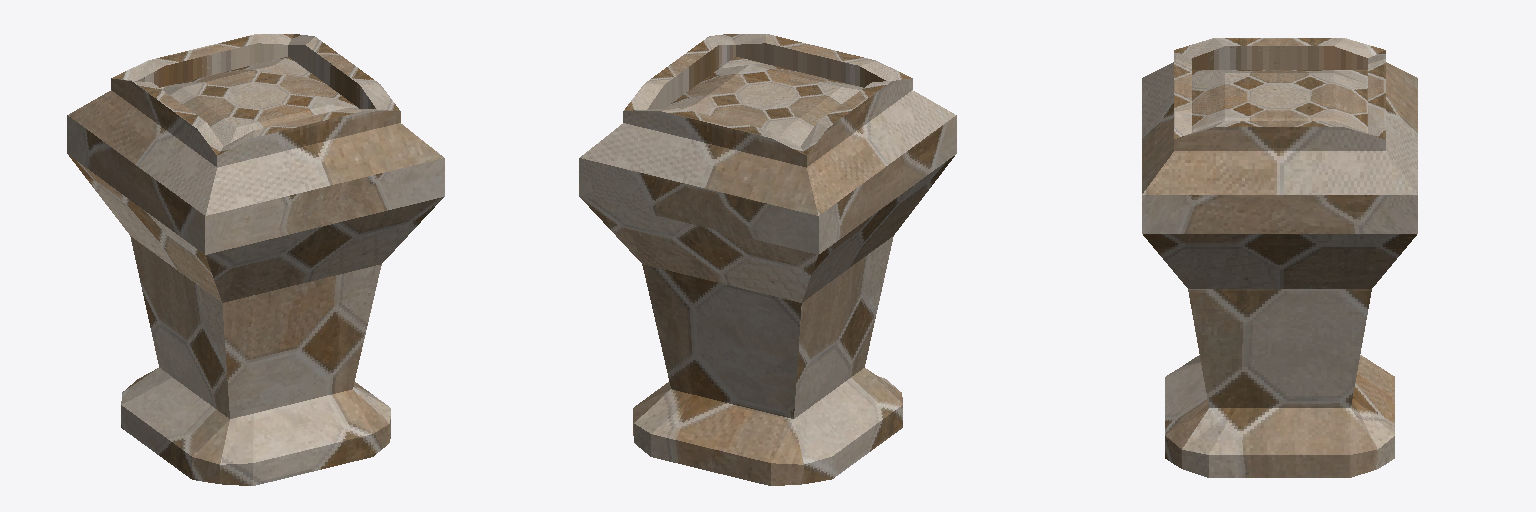
3 renders of one model, left to right at view 1: azimuth 30°, elevation 25°; view 2: azimuth 150°, elevation 25°; view 3: azimuth 270°, elevation 25°, orthographic.
Visible parts, largest first — view 1: Cube; view 2: Cube; view 3: Cube.
Part boxes in pixels (x1,y1,x2,y2): Cube: (67, 34, 444, 485); Cube: (579, 34, 956, 485); Cube: (1142, 38, 1417, 477).
Bounding box in the file's own units: 3.9 × 5.4 × 3.9.
Materials: 1 (1 with a texture image).